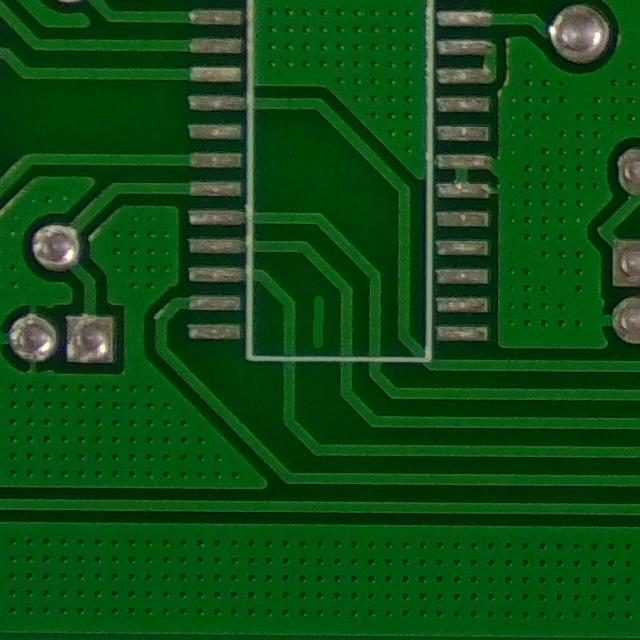spurious_copper: (289, 282, 351, 359)
